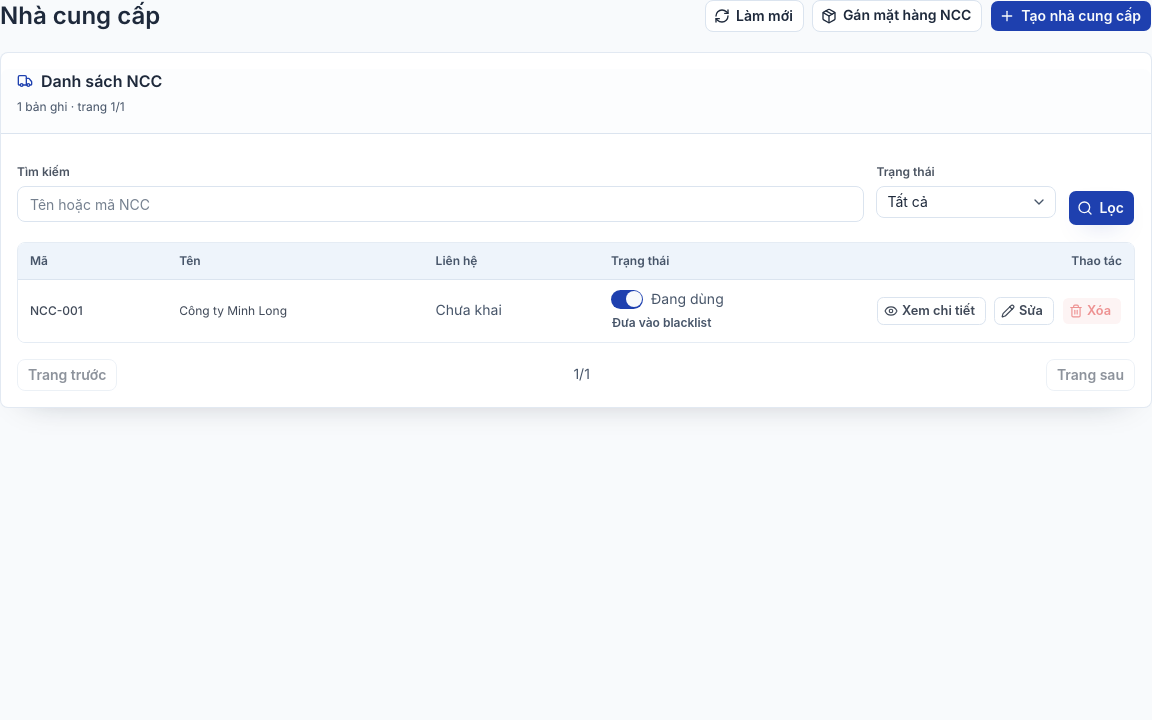
Test: purchase and supplier UX › loads authoritative supplier detail and displays its selected status
Click the button with aria-label "Xem chi tiết nhà cung cấp Công ty Minh Long".
click(931, 310)  # box [877,296,986,324]
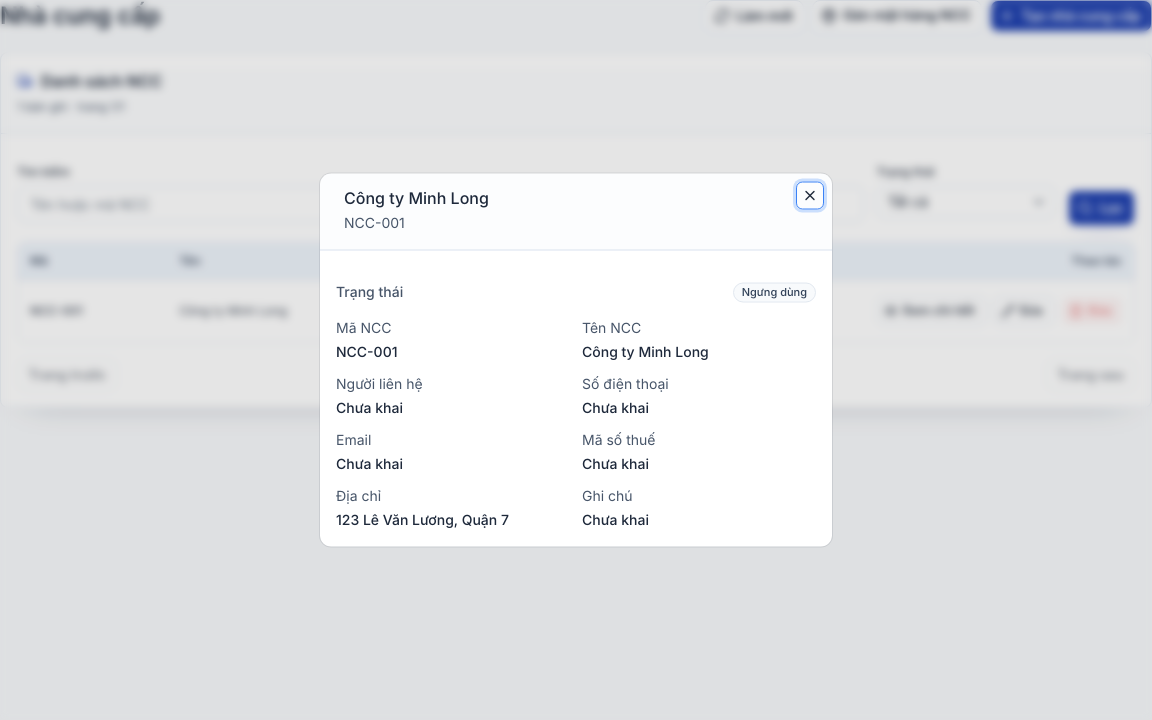
Expected: the text "123 Lê Văn Lương, Quận 7" is shown, [336,512,509,528]
Expected: the text "Ngưng dùng" is shown, [733,282,816,302]
